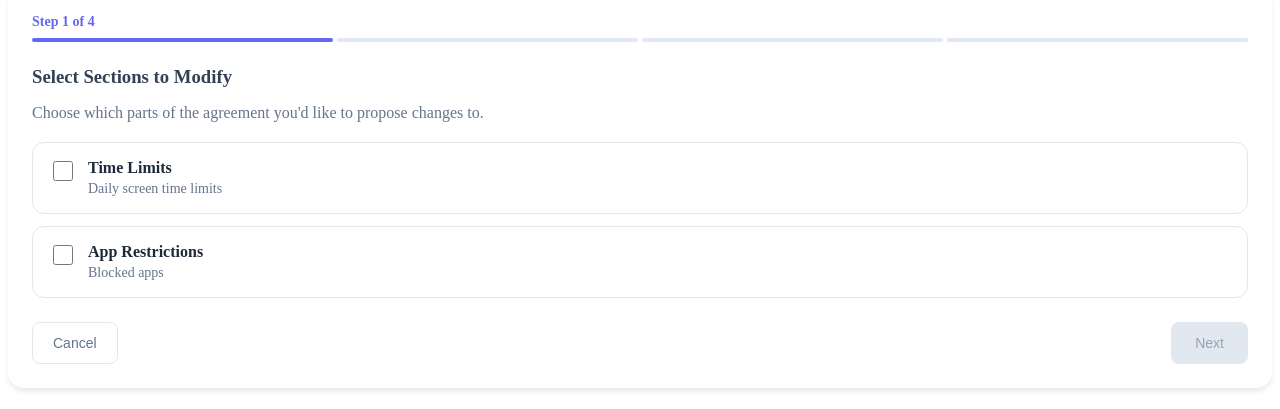
AgreementProposalWizard - Story 34.1 › step navigation › should enable next button when section is selected
Click the checkbox labelled "Time Limits" at (63, 171), box [53,161,73,181]
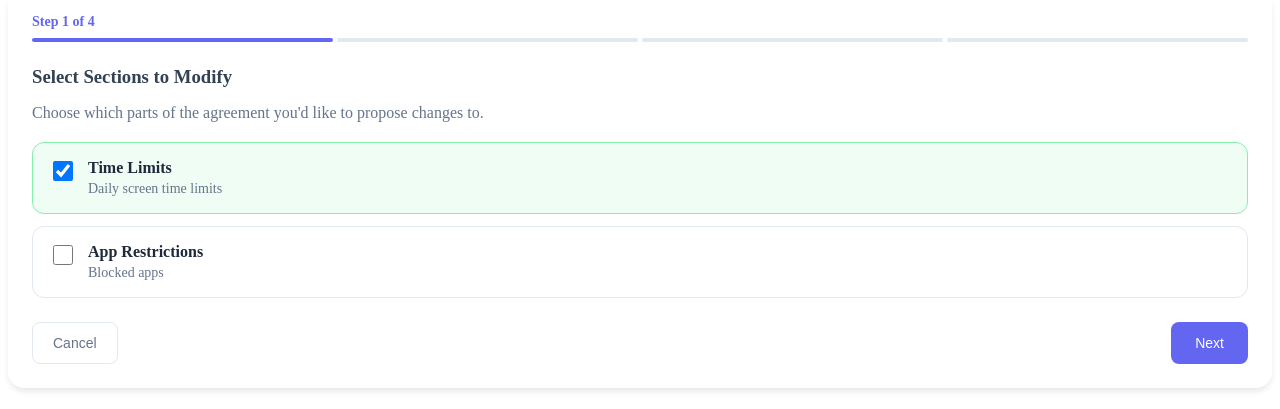
Check: the button "Next" is enabled, box [1171,322,1248,364]
